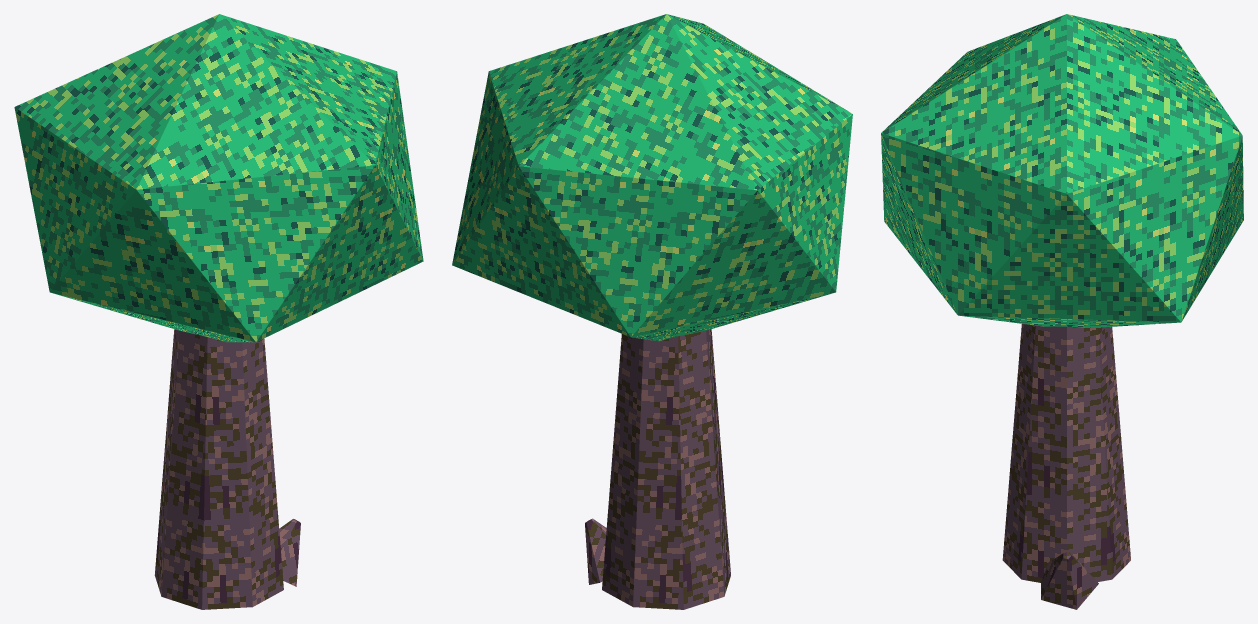
The model's file is r01_arvore_3.glb.
3 renders of one model, left to right at view 1: azimuth 30°, elevation 25°; view 2: azimuth 150°, elevation 25°; view 3: azimuth 270°, elevation 25°, orthographic. The views are drawn at different scales.
Visible parts, largest first — view 1: r01_arvore_3; view 2: r01_arvore_3; view 3: r01_arvore_3.
Part boxes in pixels (bbox=[...]): r01_arvore_3: bbox=[14, 14, 423, 609]; r01_arvore_3: bbox=[452, 14, 852, 609]; r01_arvore_3: bbox=[881, 14, 1243, 609].
Bounding box in the file's own units: 4.2 × 6.76 × 3.95.
Materials: 2 (2 with a texture image).
